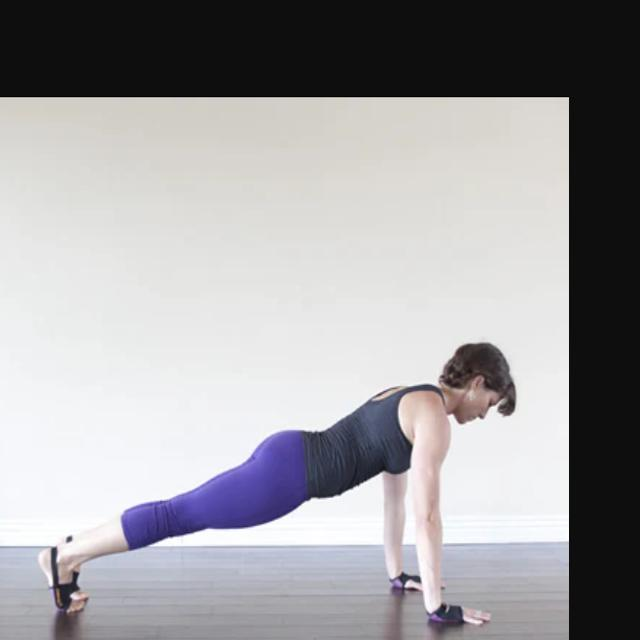Plank_Pose: (23, 341, 522, 640)
